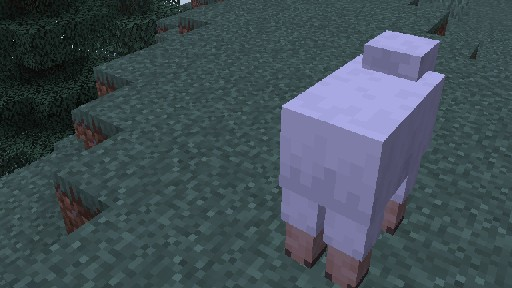sheep: (278, 29, 445, 288)
